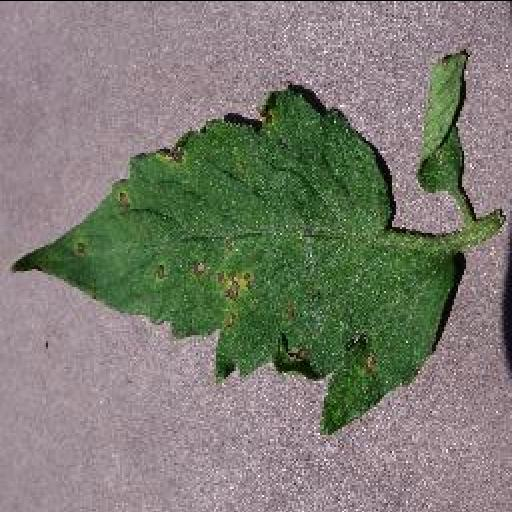disease_tomato: (3, 88, 453, 438)
